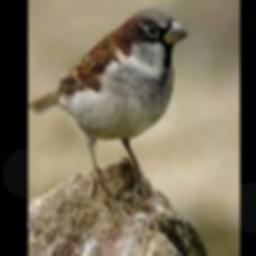Sparrow: (28, 9, 190, 200)
